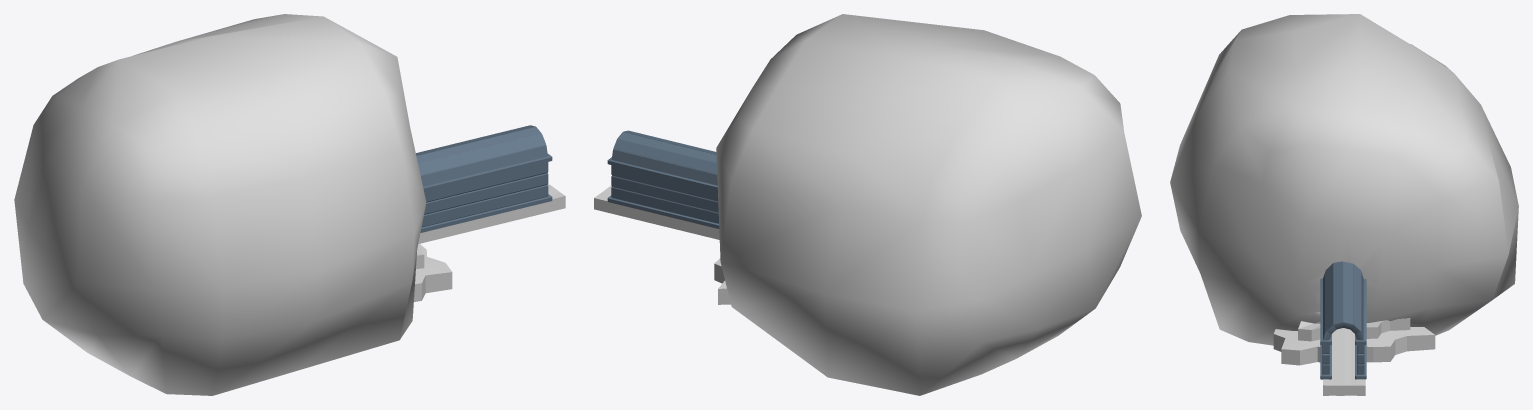
The model's file is TutorialNew 1.fbx.
The picture shows the model from 3 angles, left to right: view 1: azimuth 30°, elevation 25°; view 2: azimuth 150°, elevation 25°; view 3: azimuth 270°, elevation 25°; orthographic projection. The views are drawn at different scales.
Parts seen in each view (by area): view 1: Cube.007, Pintu.001, Cylinder.006; view 2: Cube.007, Pintu.001, Cylinder.006; view 3: Cube.007, Cylinder.006, Pintu.001.
Part boxes in pixels (x1=…): Cube.007: x1=14, y1=14, x2=426, y2=395; Pintu.001: x1=416, y1=125, x2=552, y2=232; Cylinder.006: x1=414, y1=183, x2=565, y2=301; Cube.007: x1=716, y1=14, x2=1141, y2=395; Pintu.001: x1=607, y1=130, x2=719, y2=228; Cylinder.006: x1=594, y1=185, x2=730, y2=304; Cube.007: x1=1170, y1=14, x2=1518, y2=345; Cylinder.006: x1=1273, y1=312, x2=1435, y2=395; Pintu.001: x1=1320, y1=261, x2=1366, y2=379.
Bounding box in the file's own units: 9236 × 4565 × 6208.
